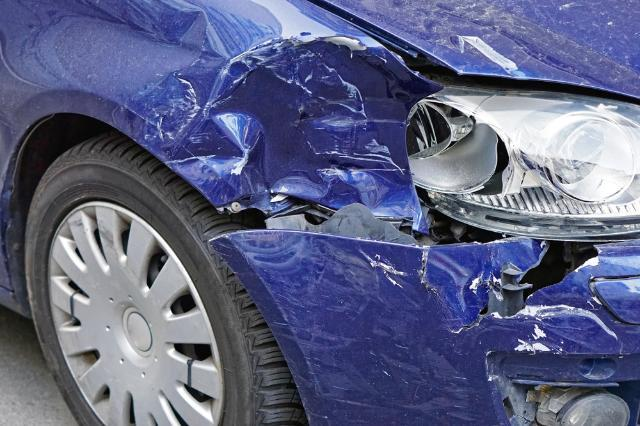crack: (420, 241, 599, 335)
dent: (44, 0, 426, 219)
dislocated part: (210, 197, 512, 255)
lamp broken: (406, 81, 640, 238)
scratch: (512, 301, 626, 354)
